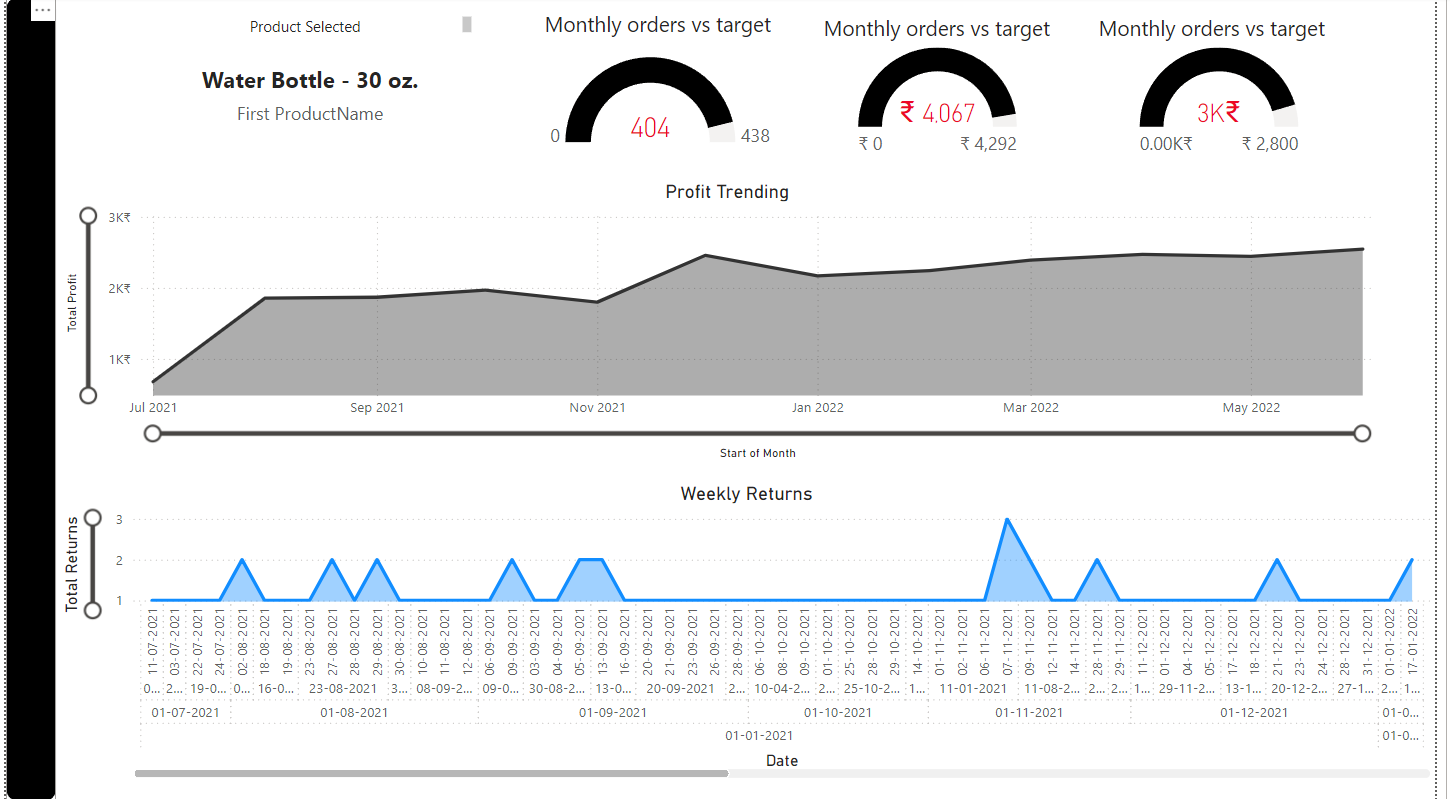

What the dashboard file says about the page in this screenshot:
{"tool":"powerbi","page":{"name":"Product Detail","canvas":[1280,720],"ordinal":2},"visuals":[{"type":"shape","box":[0,0,45,720.4],"z":0},{"type":"gauge","title":"Monthly orders vs target","fields":{"Y":["Measure Table.Total Orders"],"MaxValue":["Measure Table.Order target"]},"box":[477.3,11.6,216.7,140.6],"z":1000},{"type":"gauge","title":"Monthly orders vs target","fields":{"MaxValue":["Measure Table.Revenue Target"],"Y":["Measure Table.Total Revenue"]},"box":[727.2,15.2,214,137],"z":2000},{"type":"gauge","title":"Monthly orders vs target","fields":{"Y":["Measure Table.Total Profit"],"MaxValue":["Measure Table.Profit Target"]},"box":[973.4,15.2,225.7,137],"z":3000},{"type":"areaChart","title":"Profit Trending","fields":{"Y":["Measure Table.Total Profit"],"Category":["Calendar Lookup.Date Hierarchy.Start of Year","Calendar Lookup.Date Hierarchy.Start of Month","Calendar Lookup.Date Hierarchy.Start of Week","Calendar Lookup.Date Hierarchy.Date"]},"box":[45.4,164.3,1200.4,255],"z":4000},{"type":"areaChart","title":"Weekly Returns","fields":{"Y":["Measure Table.Total Returns"],"Category":["Calendar Lookup.Date Hierarchy.Start of Year","Calendar Lookup.Date Hierarchy.Start of Month","Calendar Lookup.Date Hierarchy.Start of Week","Calendar Lookup.Date Hierarchy.Date"]},"box":[45.4,434.4,1234.6,270.1],"z":5000},{"type":"card","fields":{"Values":["Min(Product Lookup.ProductName)"]},"box":[143.1,36.3,258,97.8],"z":6000},{"type":"textbox","box":[122,12.1,300.3,24.2],"z":7000}]}

Visuals, with their boxes on the page's 1280x720 design canvas (x1, y1, x2, y2). These are canvas units, not pixel positions in the 1450x799 screenshot, which may show the page scaled, cropped or inside an application window:
shape: 0/0/45/720
"Monthly orders vs target" gauge: 477/12/694/152
"Monthly orders vs target" gauge: 727/15/941/152
"Monthly orders vs target" gauge: 973/15/1199/152
"Profit Trending" areaChart: 45/164/1246/419
"Weekly Returns" areaChart: 45/434/1280/704
card - Min(Product Lookup.ProductName): 143/36/401/134
textbox: 122/12/422/36
